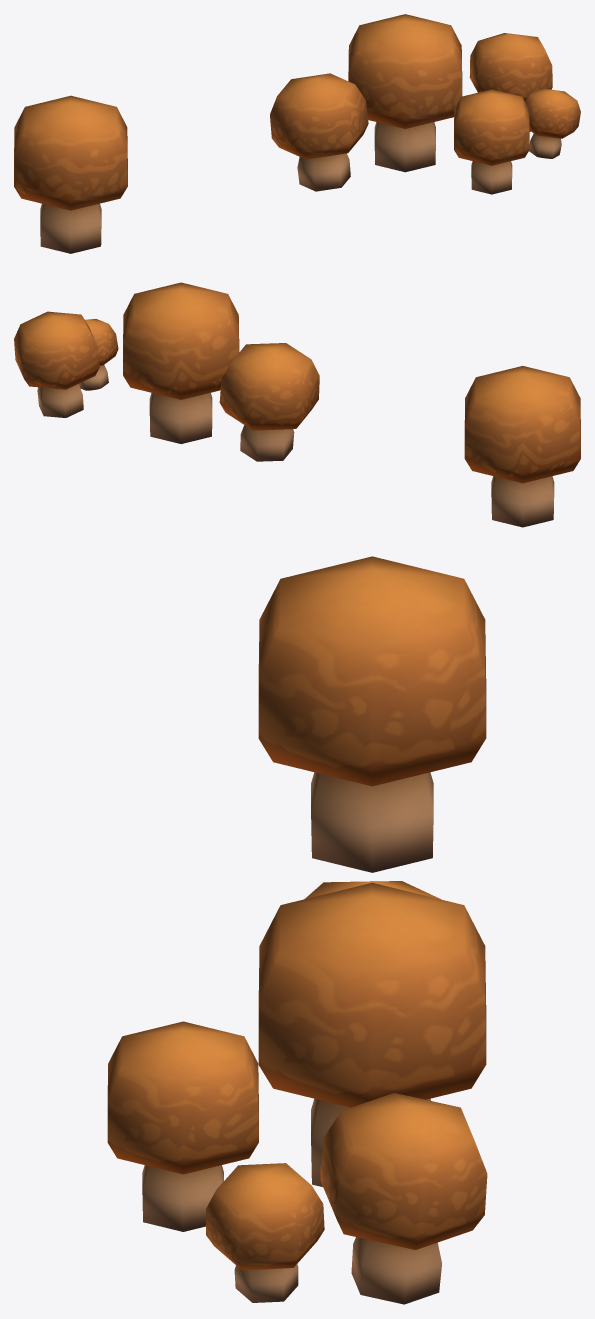
The model's file is Mushroom3.glb.
3 views of the same model, one above another, from view 1: azimuth 30°, elevation 25°; view 2: azimuth 150°, elevation 25°; view 3: azimuth 270°, elevation 25° (orthographic). The views are drawn at different scales.
Visible parts, largest first — view 1: Mushroom 10_group, Mushroom 10_single; view 2: Mushroom 10_group, Mushroom 10_single; view 3: Mushroom 10_group, Mushroom 10_single.
Boxes of the visible parts, left/top/right/bottom form: Mushroom 10_group: left=270, top=14, right=580, bottom=194; Mushroom 10_single: left=14, top=95, right=127, bottom=253; Mushroom 10_group: left=14, top=282, right=319, bottom=461; Mushroom 10_single: left=464, top=366, right=580, bottom=527; Mushroom 10_group: left=107, top=881, right=487, bottom=1304; Mushroom 10_single: left=258, top=556, right=486, bottom=872.
Bounding box in the file's own units: 20.55 × 5.21 × 6.23.
Materials: 1 (1 with a texture image).
